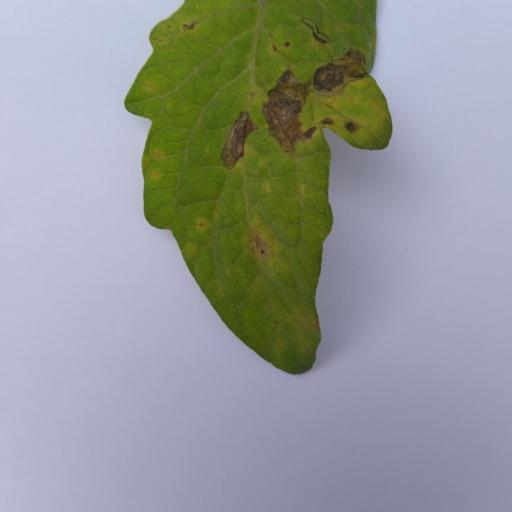disease_tomato: (123, 0, 392, 373)
